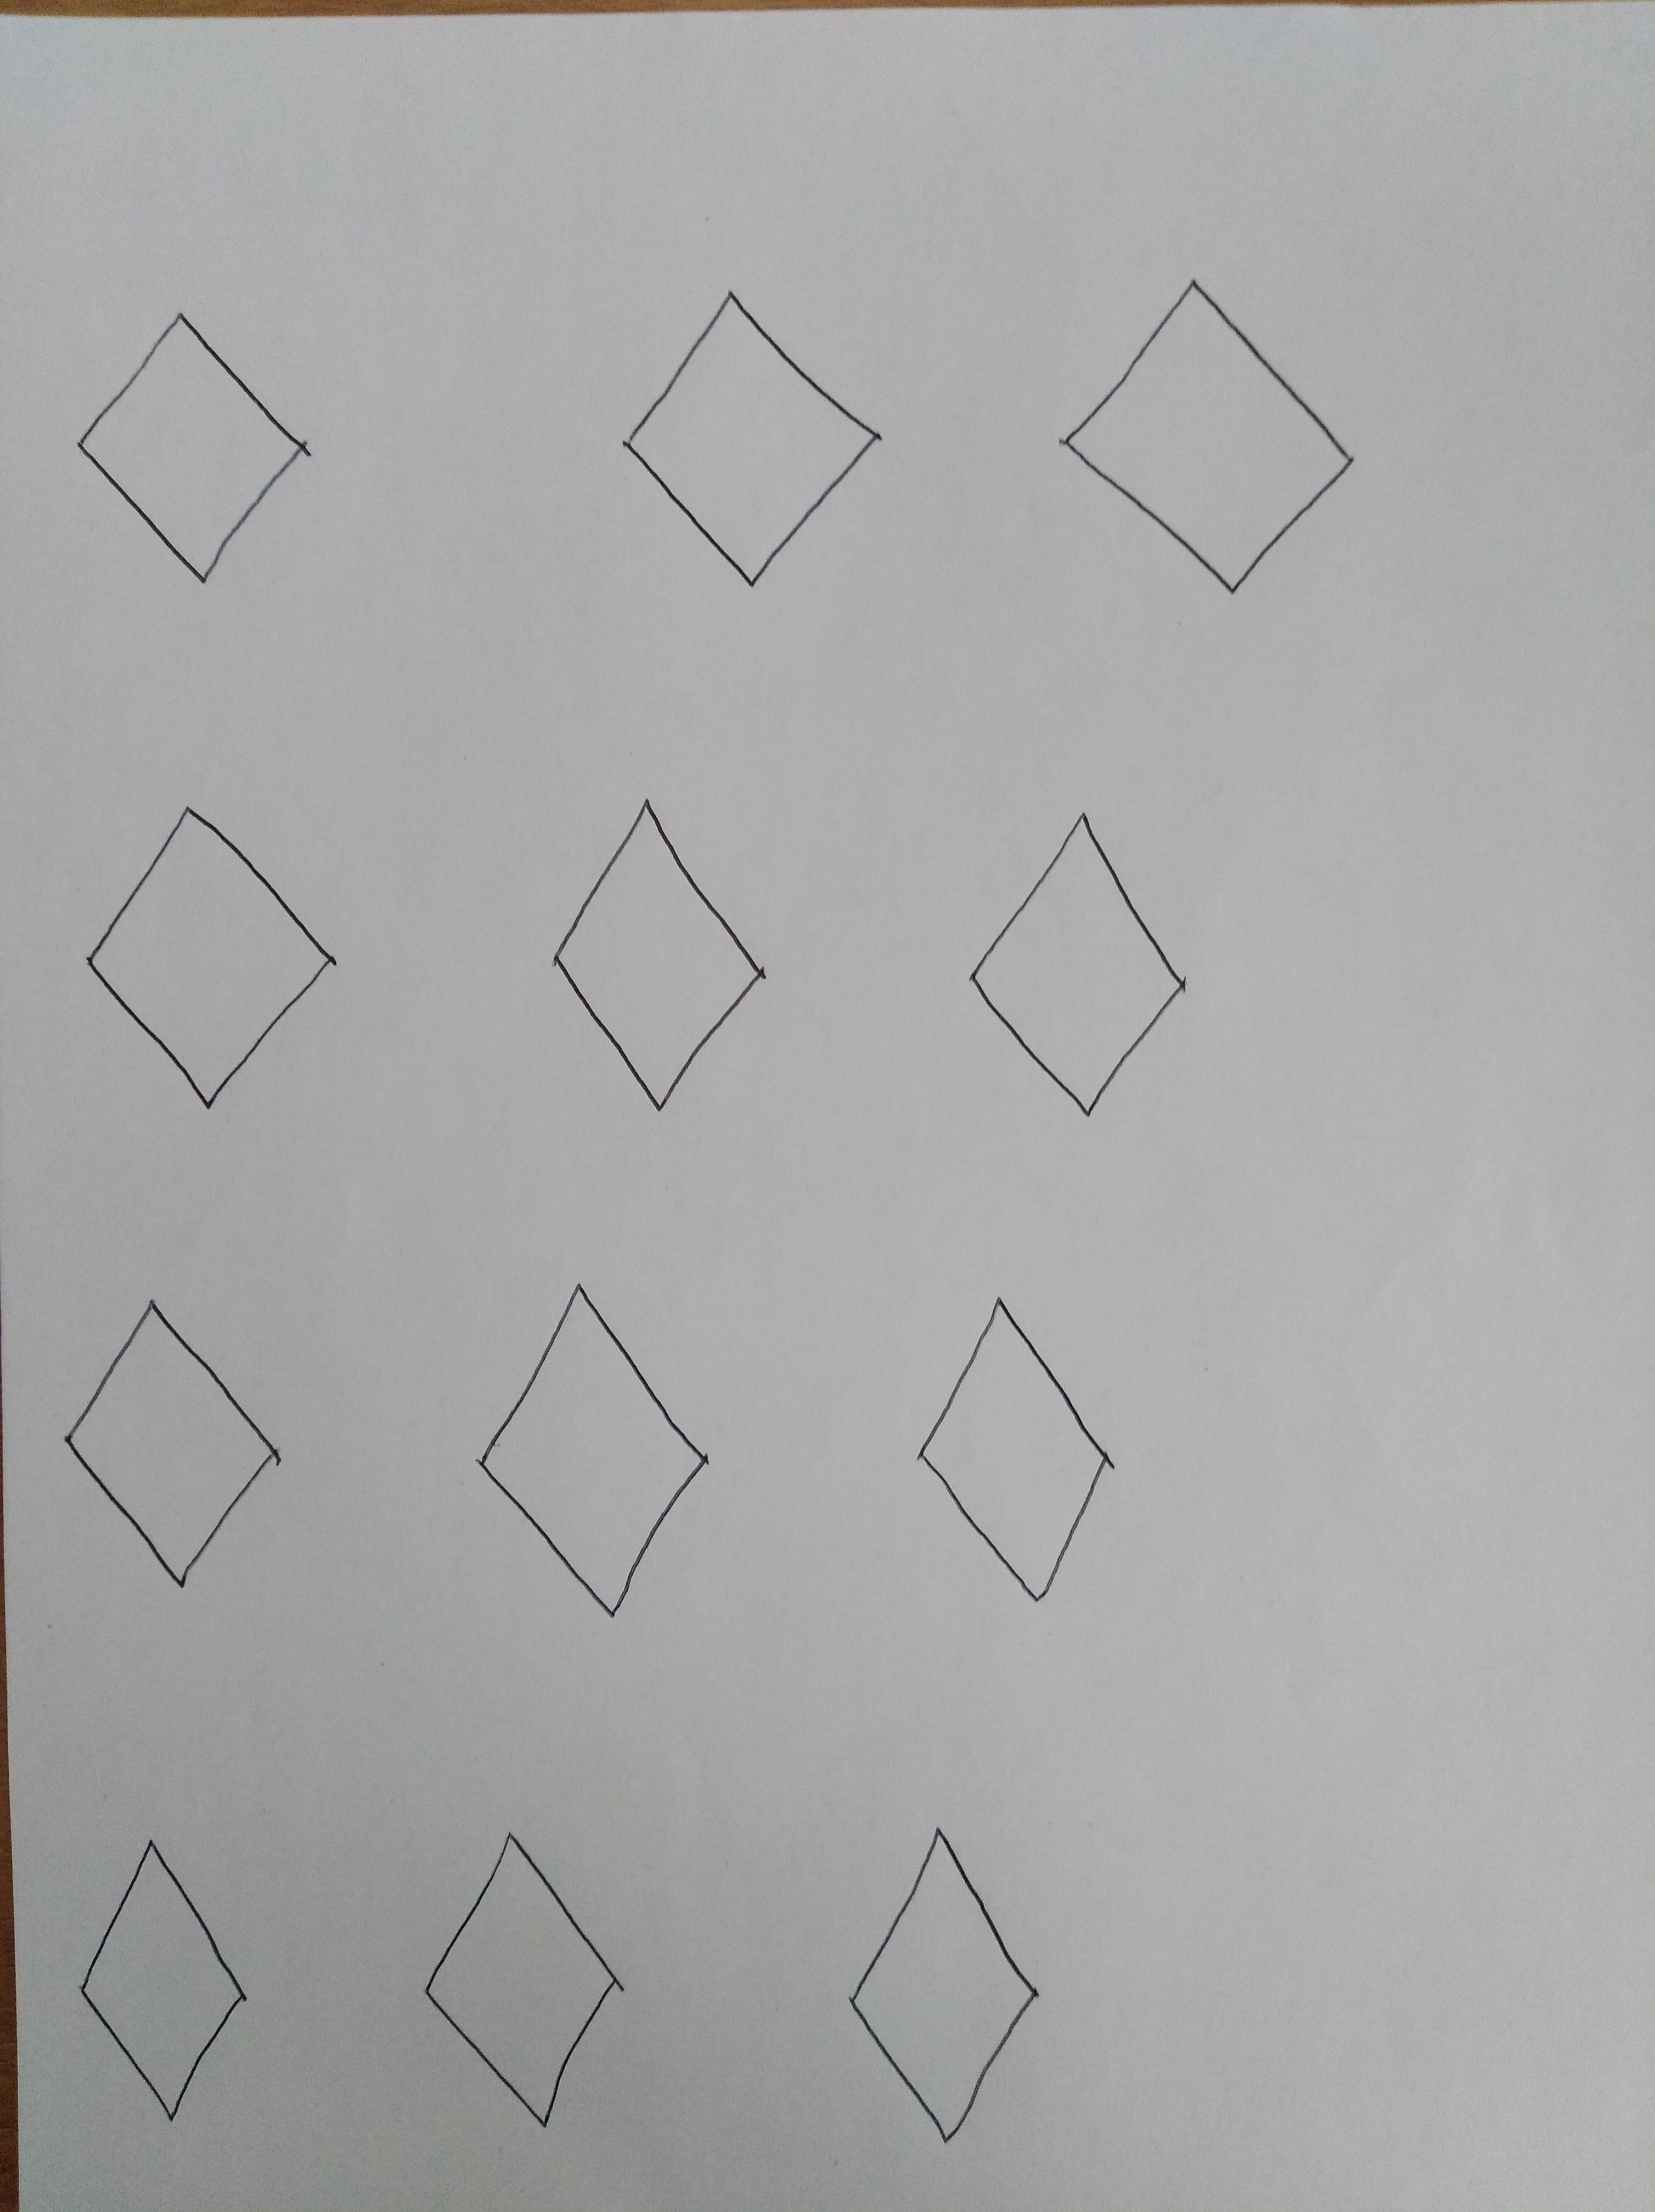decision: (1024, 250, 1387, 619), (429, 1253, 742, 1647), (50, 770, 362, 1136), (504, 772, 801, 1131), (595, 264, 901, 603), (934, 787, 1222, 1145), (377, 1800, 661, 2156), (883, 1272, 1165, 1628), (821, 1805, 1081, 2167), (37, 1274, 315, 1607), (42, 290, 336, 605), (45, 1802, 283, 2148)
